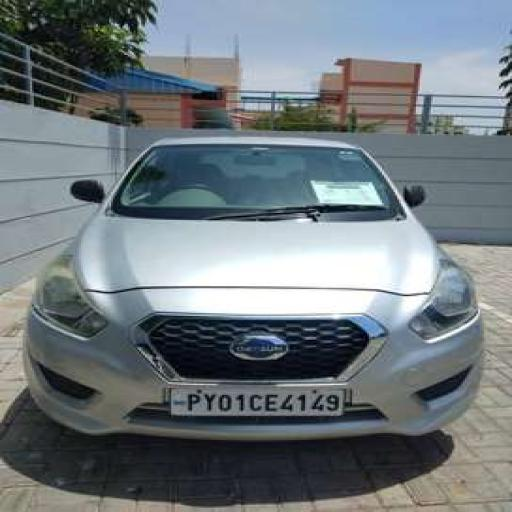license_plate`: (170, 385, 344, 415)
